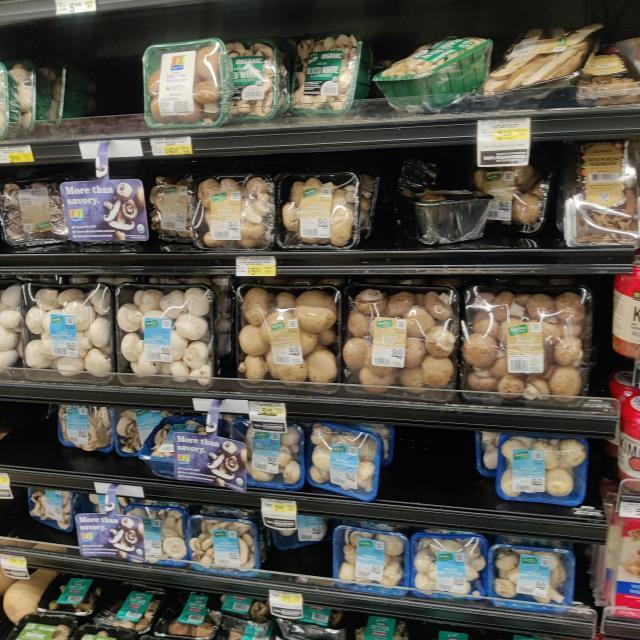Mushrooms: (465, 278, 591, 406), (341, 282, 461, 400), (235, 284, 341, 390), (20, 281, 121, 385), (117, 287, 217, 388), (378, 31, 496, 107), (145, 38, 234, 126), (496, 432, 590, 507), (290, 35, 378, 111), (485, 546, 573, 616), (307, 421, 382, 501), (334, 523, 412, 599), (410, 531, 492, 603), (283, 177, 363, 247), (220, 39, 290, 117), (238, 421, 313, 489), (201, 180, 279, 243), (124, 504, 188, 570), (195, 515, 262, 573), (58, 401, 119, 458), (25, 477, 80, 531)
